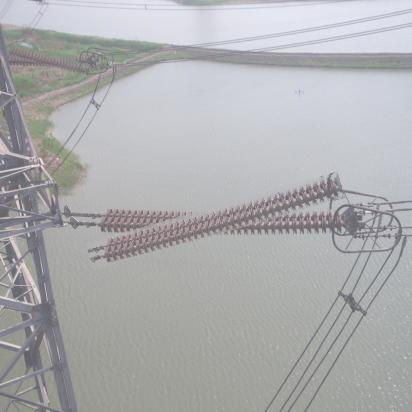insulator: (87, 190, 348, 254), (9, 51, 91, 73)
